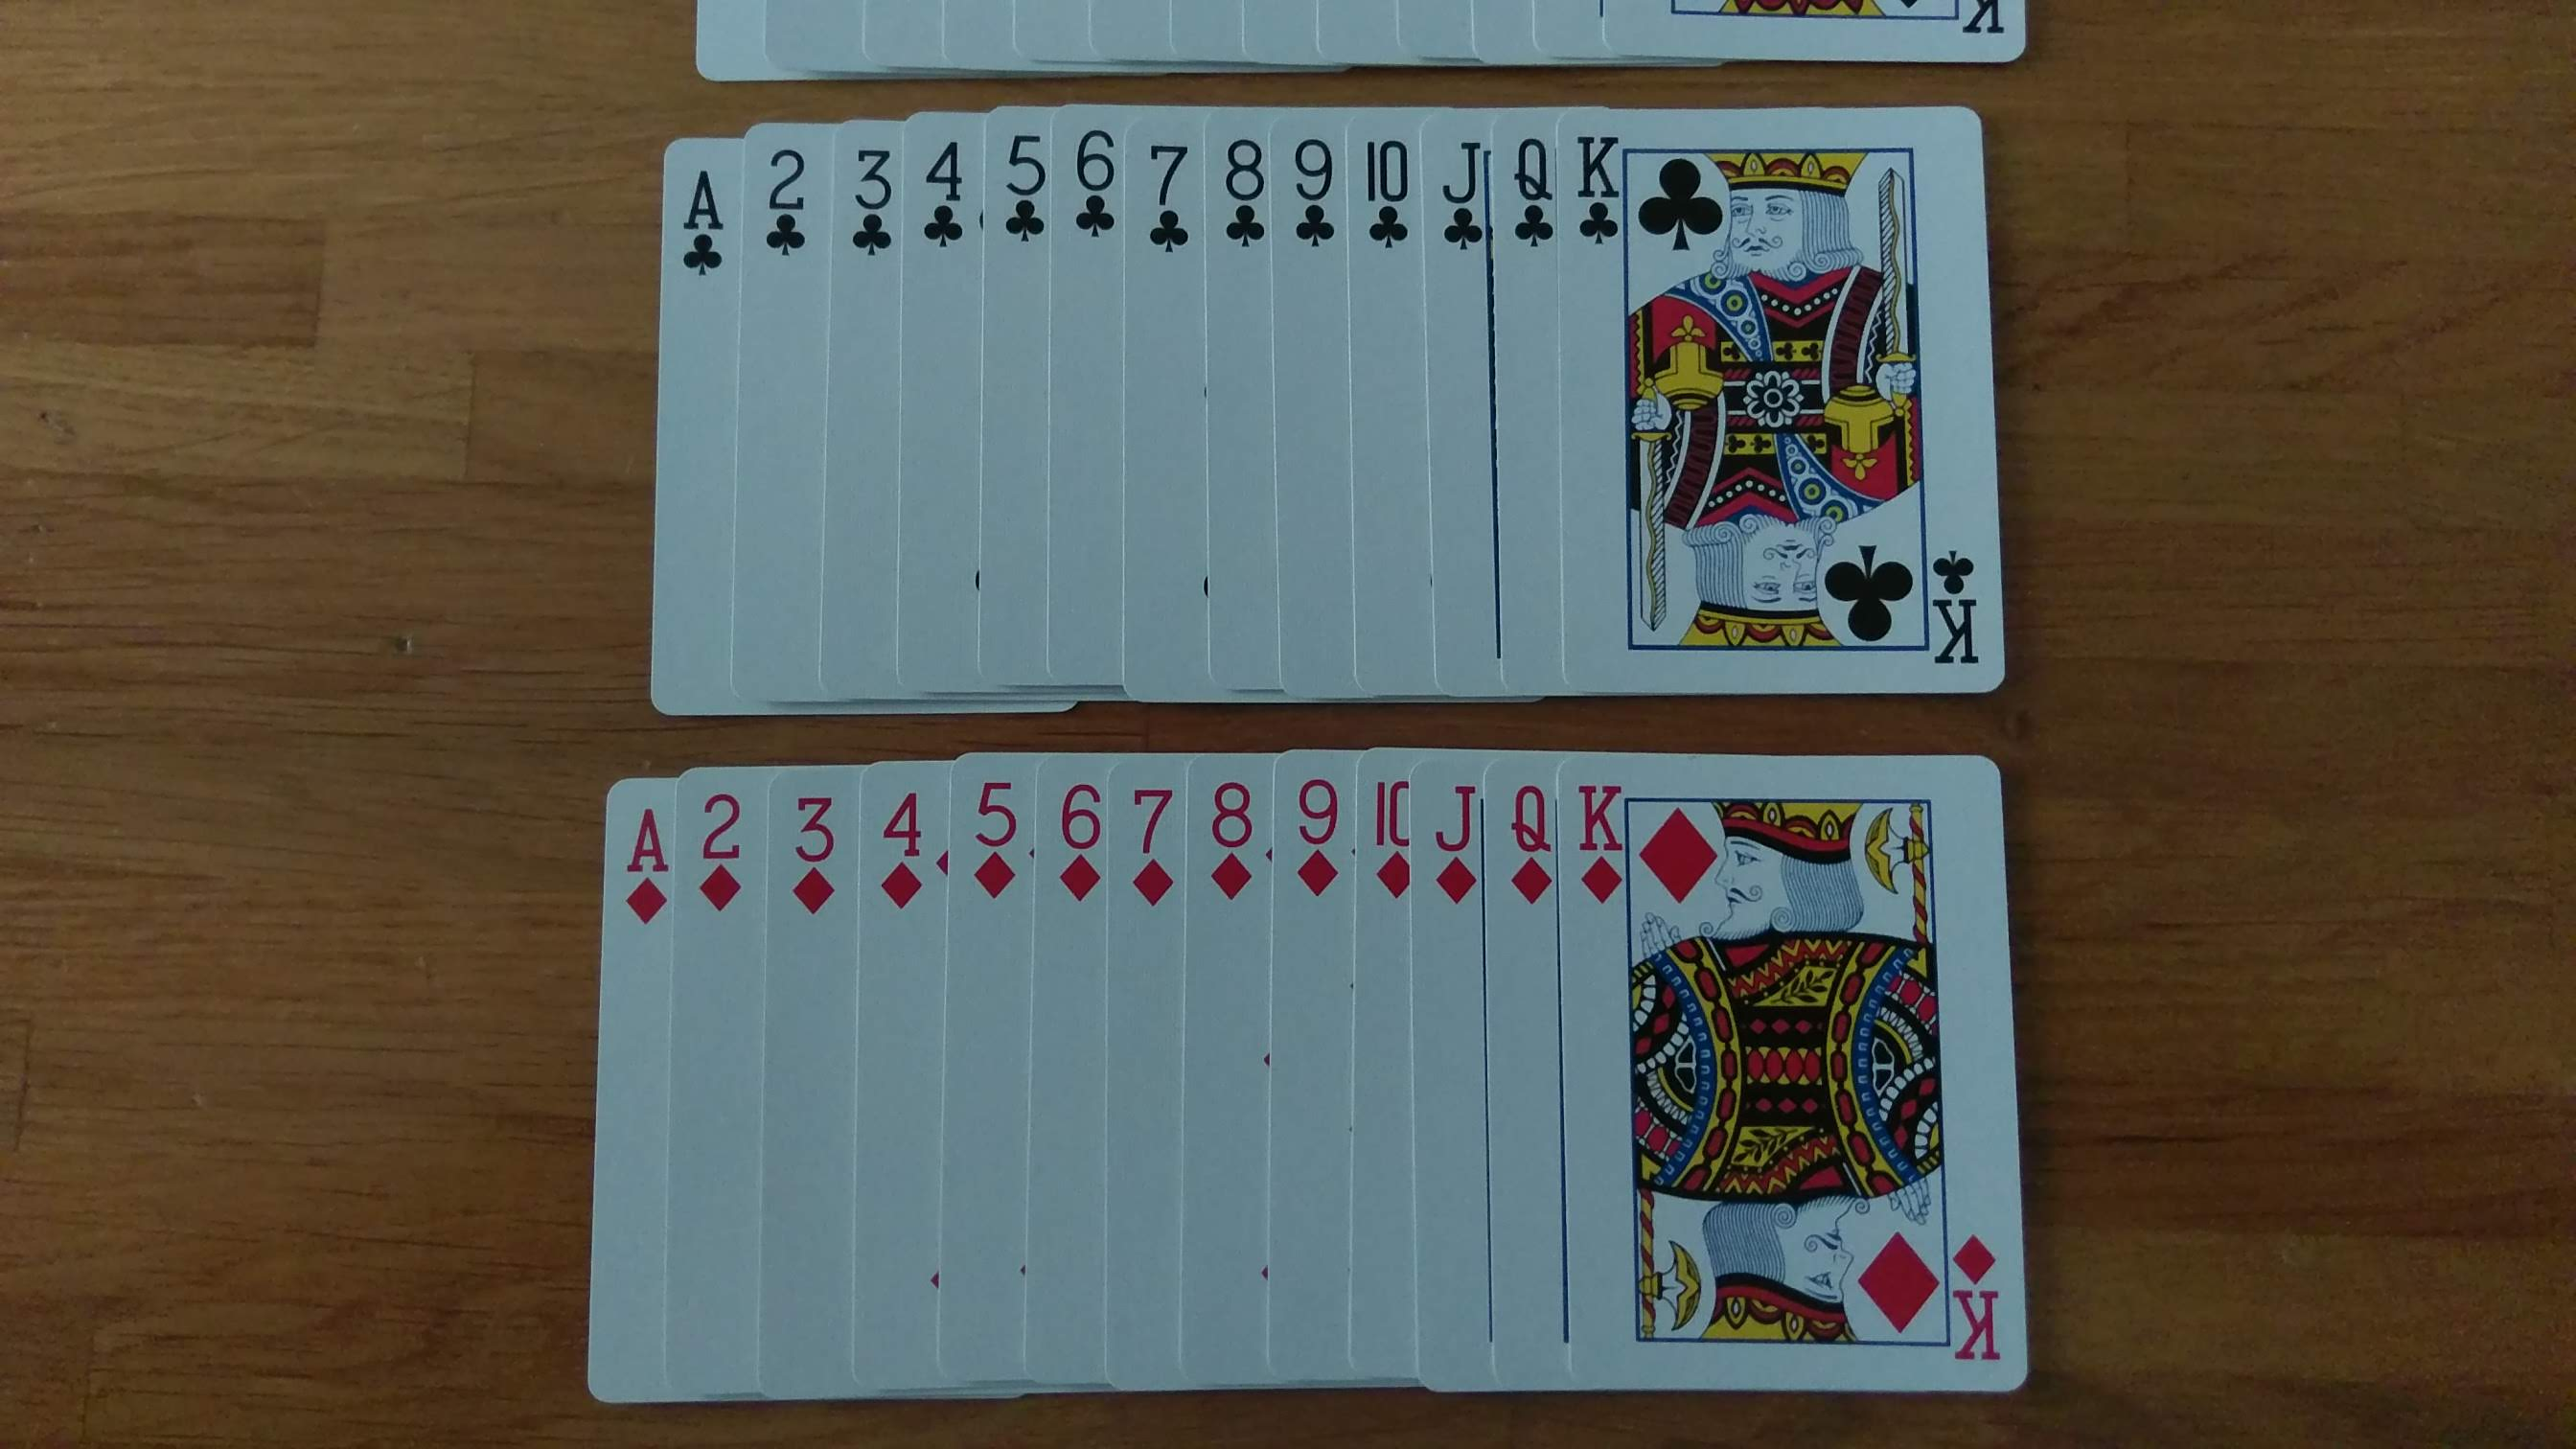10F: (1359, 127, 1421, 265)
10Q: (1364, 759, 1426, 922)
1F: (678, 154, 734, 294)
1Q: (616, 786, 676, 938)
2F: (743, 124, 816, 278)
2Q: (692, 782, 754, 938)
3F: (835, 133, 901, 278)
3Q: (787, 782, 842, 936)
4F: (916, 113, 975, 272)
4Q: (869, 770, 934, 929)
5F: (984, 113, 1062, 265)
5Q: (962, 766, 1024, 929)
6F: (1069, 117, 1131, 265)
6Q: (1042, 763, 1111, 925)
7F: (1136, 122, 1201, 280)
7Q: (1118, 766, 1189, 932)
8F: (1212, 120, 1270, 283)
8Q: (1203, 770, 1267, 916)
9F: (1290, 124, 1343, 267)
9Q: (1292, 770, 1343, 913)
JF: (1426, 127, 1491, 272)
JQ: (1426, 770, 1491, 920)
KF: (1569, 122, 1635, 262)
KQ: (1559, 773, 1631, 913)
QF: (1502, 120, 1569, 278)
QQ: (1504, 764, 1559, 916)
